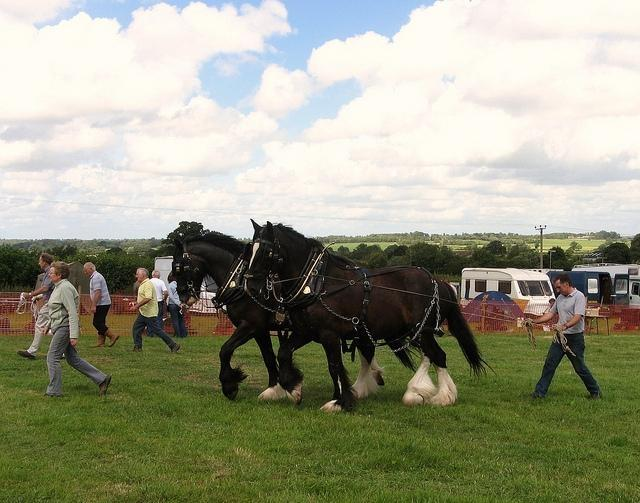bus: (571, 262, 633, 292), (614, 268, 640, 304)
car: (460, 266, 556, 316), (547, 270, 630, 304), (629, 274, 640, 306)
truck: (461, 268, 556, 314), (546, 271, 640, 307)
